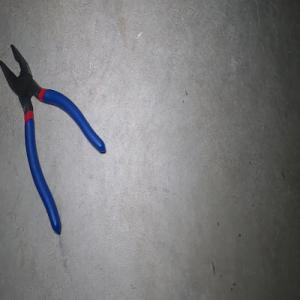Pliers: (0, 43, 105, 234)
